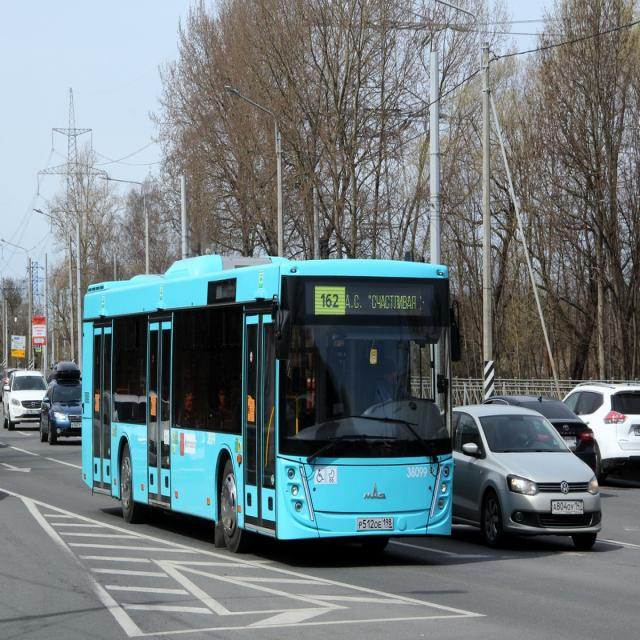number-of-bus: (317, 289, 344, 311)
